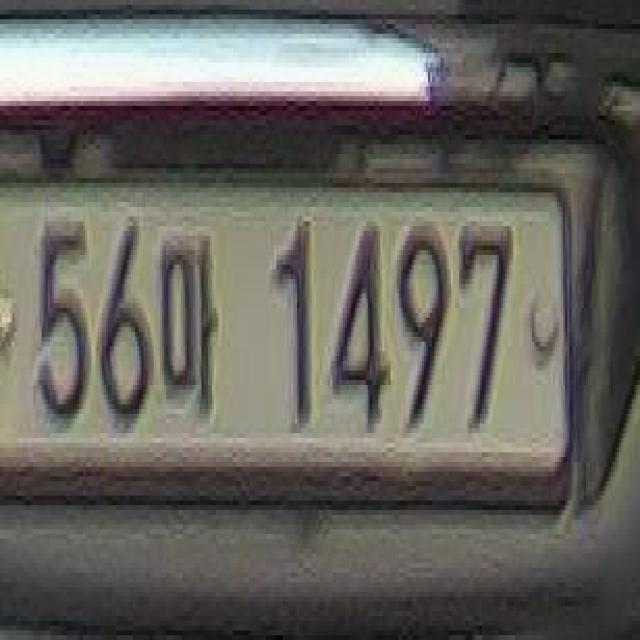illegal_plate: (4, 157, 578, 527)
